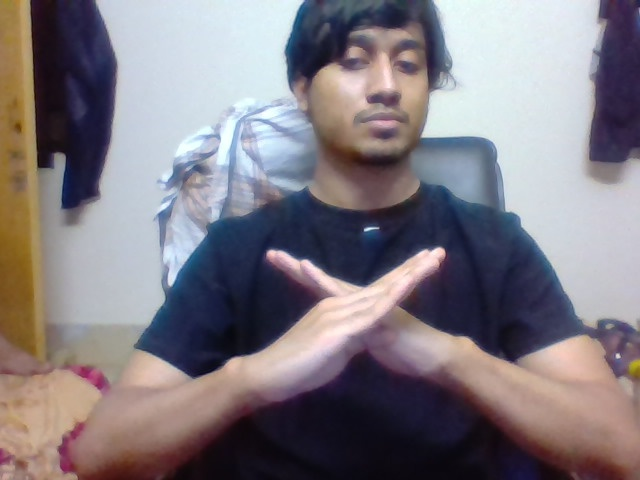X: (237, 235, 482, 386)
